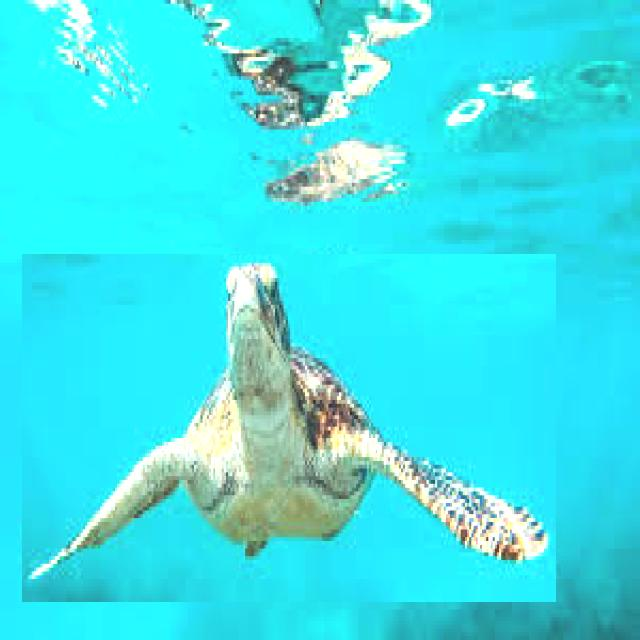Sea turtle: (22, 254, 556, 602)
